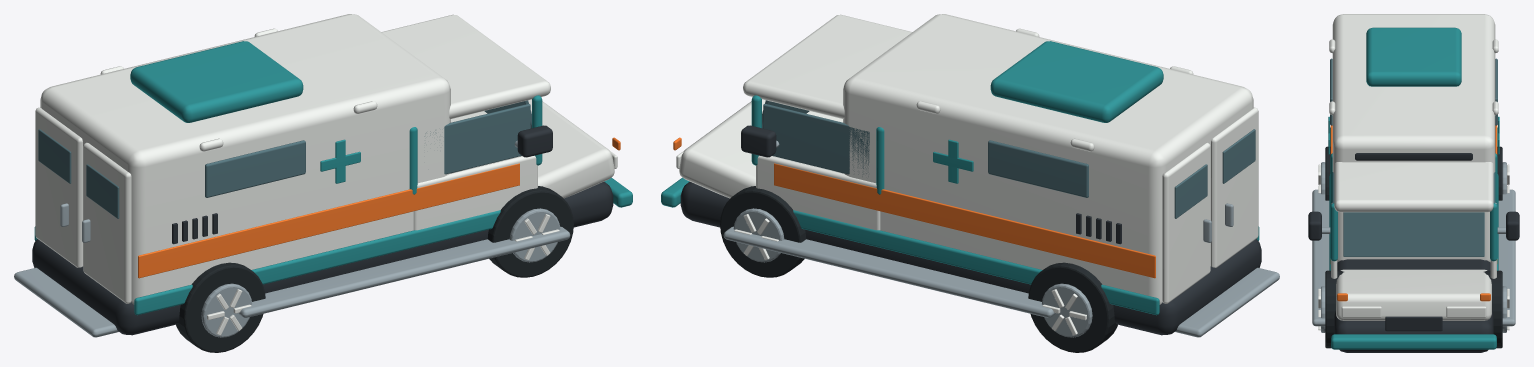
The model's file is Ambulance.fbx.
3 views of the same model, side by side, from view 1: azimuth 30°, elevation 25°; view 2: azimuth 150°, elevation 25°; view 3: azimuth 270°, elevation 25° (orthographic). The views are drawn at different scales.
Parts seen in each view (by area): view 1: AmbulanceRoot_MedicalPearl, AmbulanceRoot_MedicalTeal, AmbulanceRoot_SecurityCarbon, AmbulanceRoot_MedicalOrange, AmbulanceRoot_SecuritySteel, AmbulanceRoot_SecurityGlass, RearDoor-1_MedicalPearl, RearDoor1_MedicalPearl, Wheel_SecurityRubber, Wheel.001_SecurityRubber, Wheel_SecuritySteel, Wheel.001_SecuritySteel (+3 smaller); view 2: AmbulanceRoot_MedicalPearl, AmbulanceRoot_MedicalTeal, AmbulanceRoot_SecurityCarbon, AmbulanceRoot_MedicalOrange, AmbulanceRoot_SecurityGlass, AmbulanceRoot_SecuritySteel, RearDoor1_MedicalPearl, RearDoor-1_MedicalPearl, Wheel.002_SecurityRubber, Wheel.003_SecurityRubber, Wheel.002_SecuritySteel, Wheel.003_SecuritySteel (+3 smaller); view 3: AmbulanceRoot_MedicalPearl, AmbulanceRoot_MedicalTeal, AmbulanceRoot_SecurityGlass, AmbulanceRoot_SecurityCarbon, AmbulanceRoot_SecuritySteel, Wheel.001_SecurityRubber, Wheel.003_SecurityRubber, AmbulanceRoot_MedicalOrange, Wheel_SecurityRubber, Wheel.002_SecurityRubber, Wheel.001_SecuritySteel, Wheel.003_SecuritySteel.
Boxes of the visible parts, x1,y1,x2,y2 form: AmbulanceRoot_MedicalPearl: (40, 14, 617, 304); AmbulanceRoot_MedicalTeal: (34, 41, 632, 315); AmbulanceRoot_SecurityCarbon: (32, 125, 613, 335); AmbulanceRoot_MedicalOrange: (138, 137, 620, 278); AmbulanceRoot_SecuritySteel: (14, 140, 570, 337); AmbulanceRoot_SecurityGlass: (205, 100, 531, 197); RearDoor-1_MedicalPearl: (83, 142, 131, 303); RearDoor1_MedicalPearl: (35, 107, 82, 267); Wheel_SecurityRubber: (176, 262, 265, 352); Wheel.001_SecurityRubber: (487, 186, 573, 277); Wheel_SecuritySteel: (201, 283, 251, 337); Wheel.001_SecuritySteel: (509, 208, 560, 262); AmbulanceRoot_MedicalPearl: (676, 14, 1253, 304); AmbulanceRoot_MedicalTeal: (661, 41, 1259, 315); AmbulanceRoot_SecurityCarbon: (680, 125, 1261, 335); AmbulanceRoot_MedicalOrange: (673, 137, 1155, 278); AmbulanceRoot_SecurityGlass: (762, 100, 1088, 197); AmbulanceRoot_SecuritySteel: (723, 140, 1279, 337); RearDoor1_MedicalPearl: (1162, 142, 1210, 303); RearDoor-1_MedicalPearl: (1211, 107, 1258, 267); Wheel.002_SecurityRubber: (1028, 262, 1117, 352); Wheel.003_SecurityRubber: (720, 186, 806, 277); Wheel.002_SecuritySteel: (1042, 283, 1092, 337); Wheel.003_SecuritySteel: (733, 208, 784, 262); AmbulanceRoot_MedicalPearl: (1329, 14, 1498, 320); AmbulanceRoot_MedicalTeal: (1328, 27, 1499, 349); AmbulanceRoot_SecurityGlass: (1330, 58, 1497, 256); AmbulanceRoot_SecurityCarbon: (1308, 153, 1519, 352); AmbulanceRoot_SecuritySteel: (1312, 189, 1515, 326); Wheel.001_SecurityRubber: (1325, 270, 1343, 348); Wheel.003_SecurityRubber: (1484, 270, 1502, 348); AmbulanceRoot_MedicalOrange: (1330, 125, 1497, 301); Wheel_SecurityRubber: (1325, 146, 1330, 200); Wheel.002_SecurityRubber: (1497, 146, 1502, 200); Wheel.001_SecuritySteel: (1321, 286, 1325, 332); Wheel.003_SecuritySteel: (1502, 286, 1506, 332).
Bounding box in the file's own units: 7.93 × 3.27 × 3.31.
